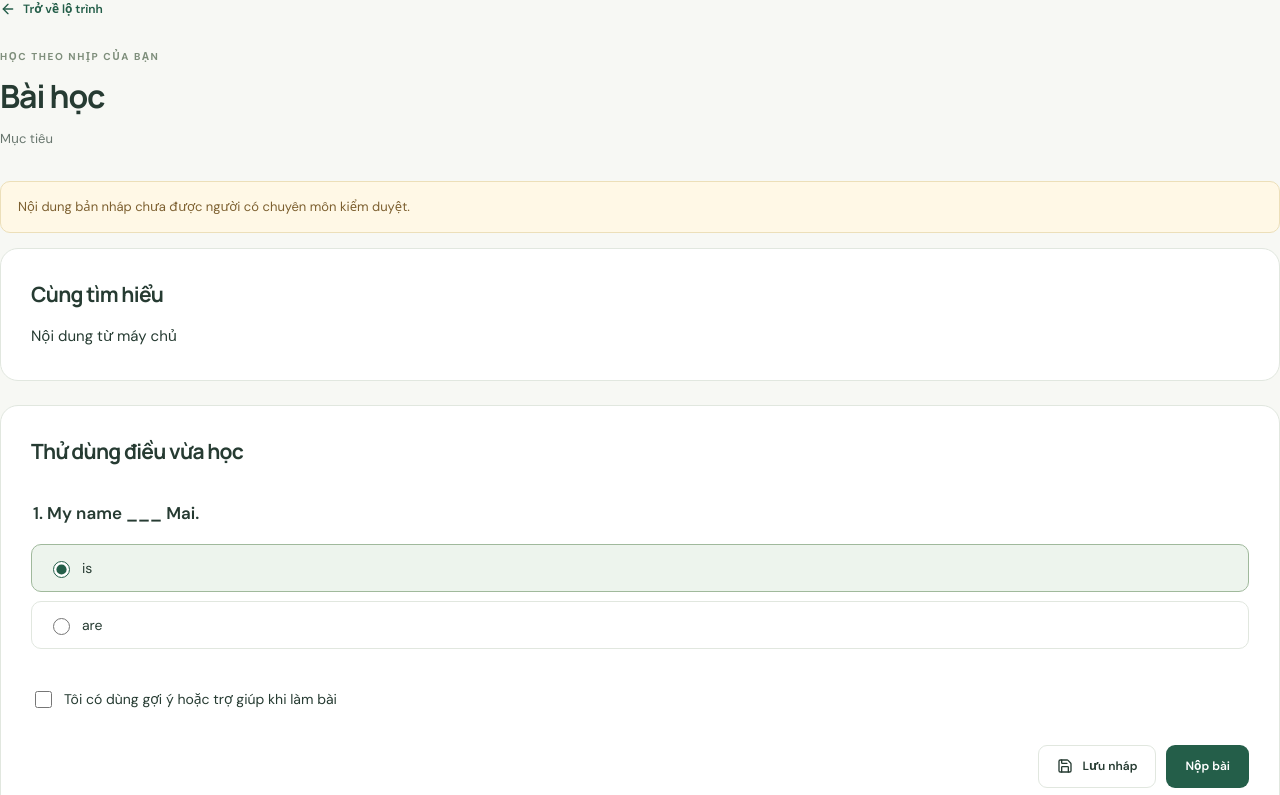
Lesson evidence › preserves answers and uses the same submission key on retry
Click the button "Nộp bài" at (1208, 766), box [1166,745,1249,788]
(page scrolled)
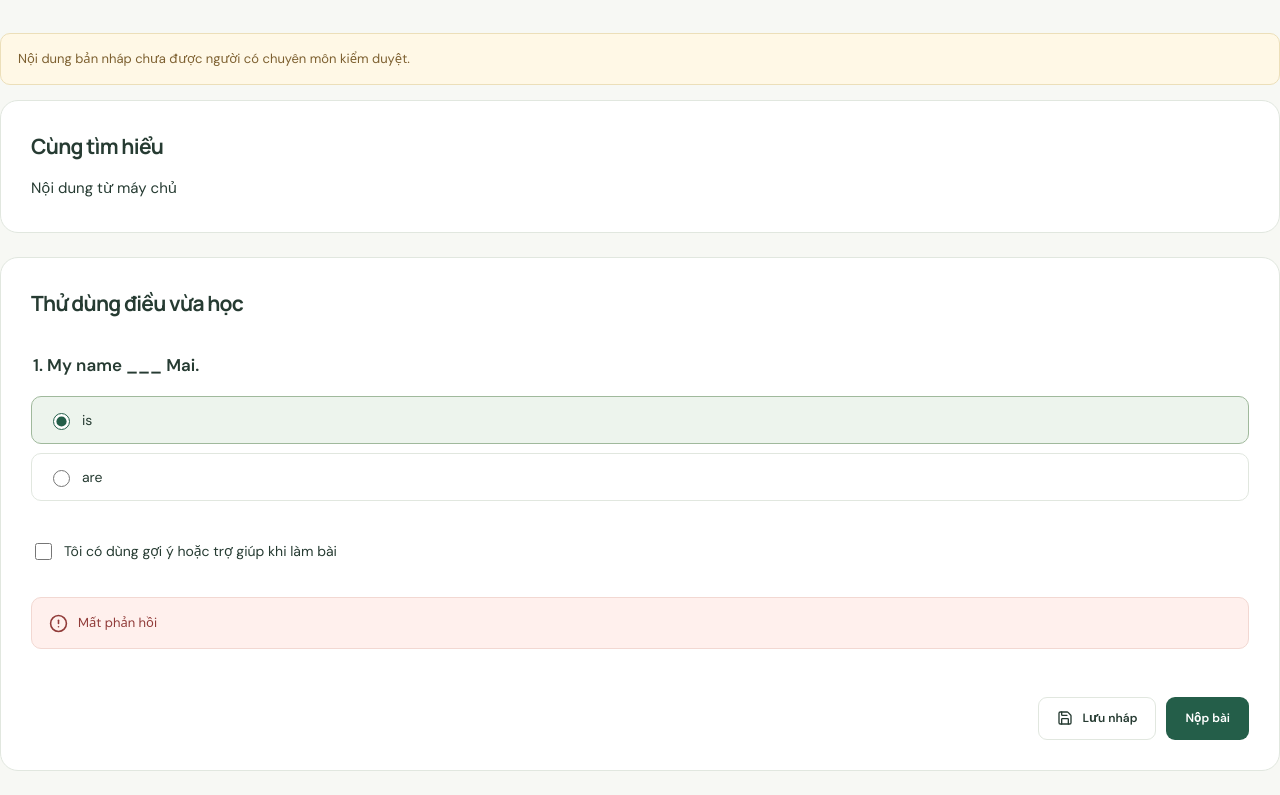
Expected: the radio button labelled "is" is checked, [53,413,70,430]
Now the message "Mất phản hồi" is shown, box [31,597,1249,649]
Click the button "Nộp bài" at (1208, 718), box [1166,697,1249,740]
(page scrolled)
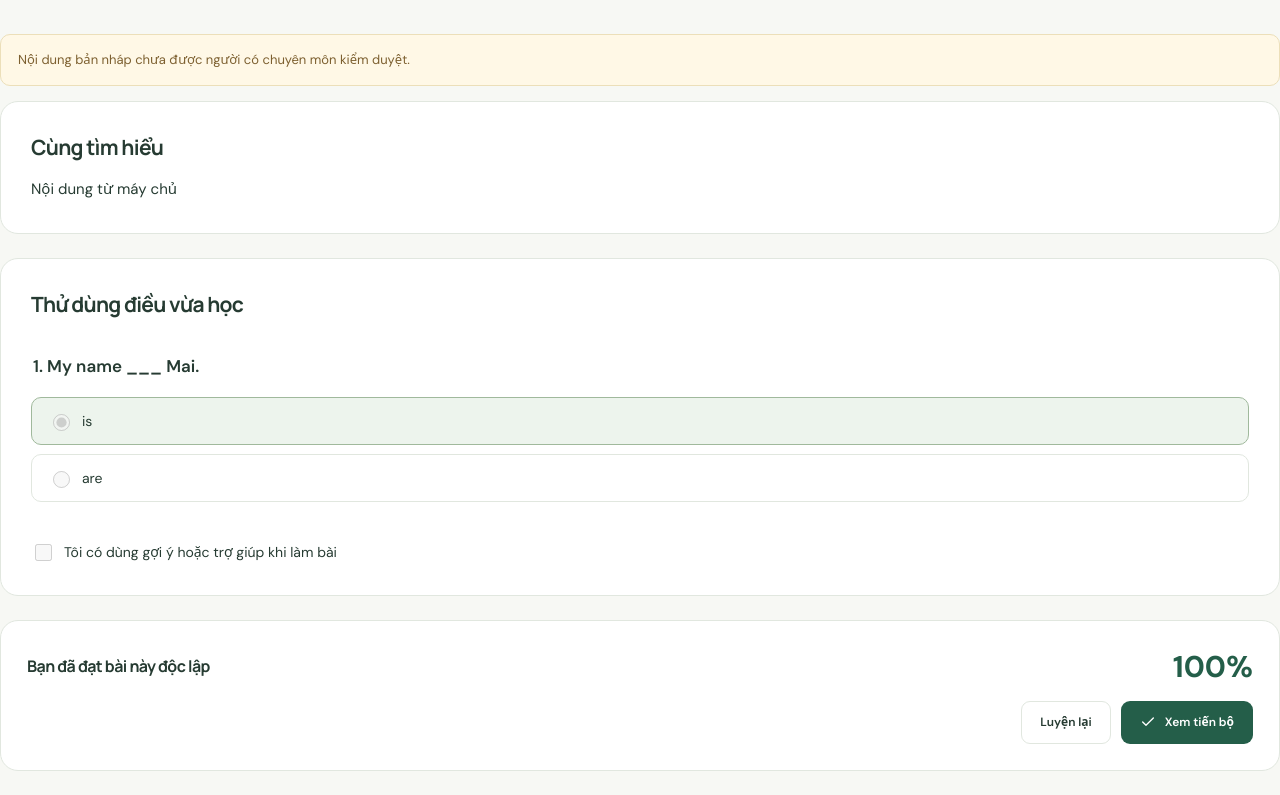
Now the heading "Bạn đã đạt bài này độc lập" is shown, box [27,654,210,678]
